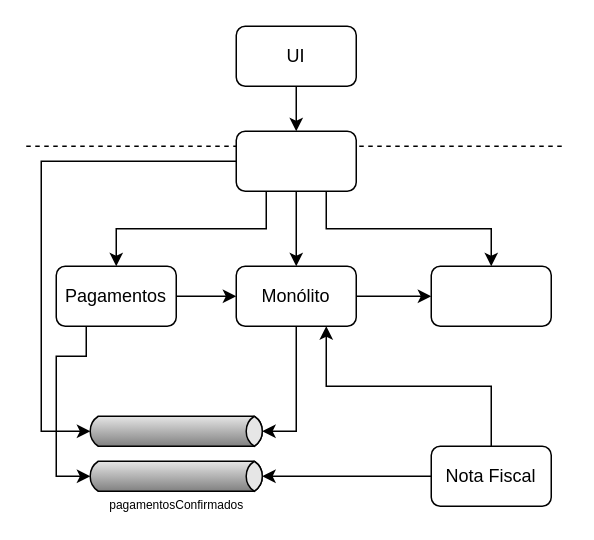
Image size: 594x540. Some labels were removed from this diagram. The centre of each missing label's shape, as x and y in pixels:
"API Gateway" goes at pixel 295 160.
"Distância" goes at pixel 490 295.
"pedidoComStatusAtualizaddo" goes at pixel 175 430.
